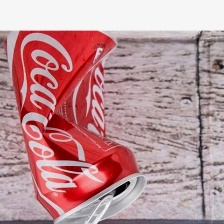can: (2, 28, 151, 224)
